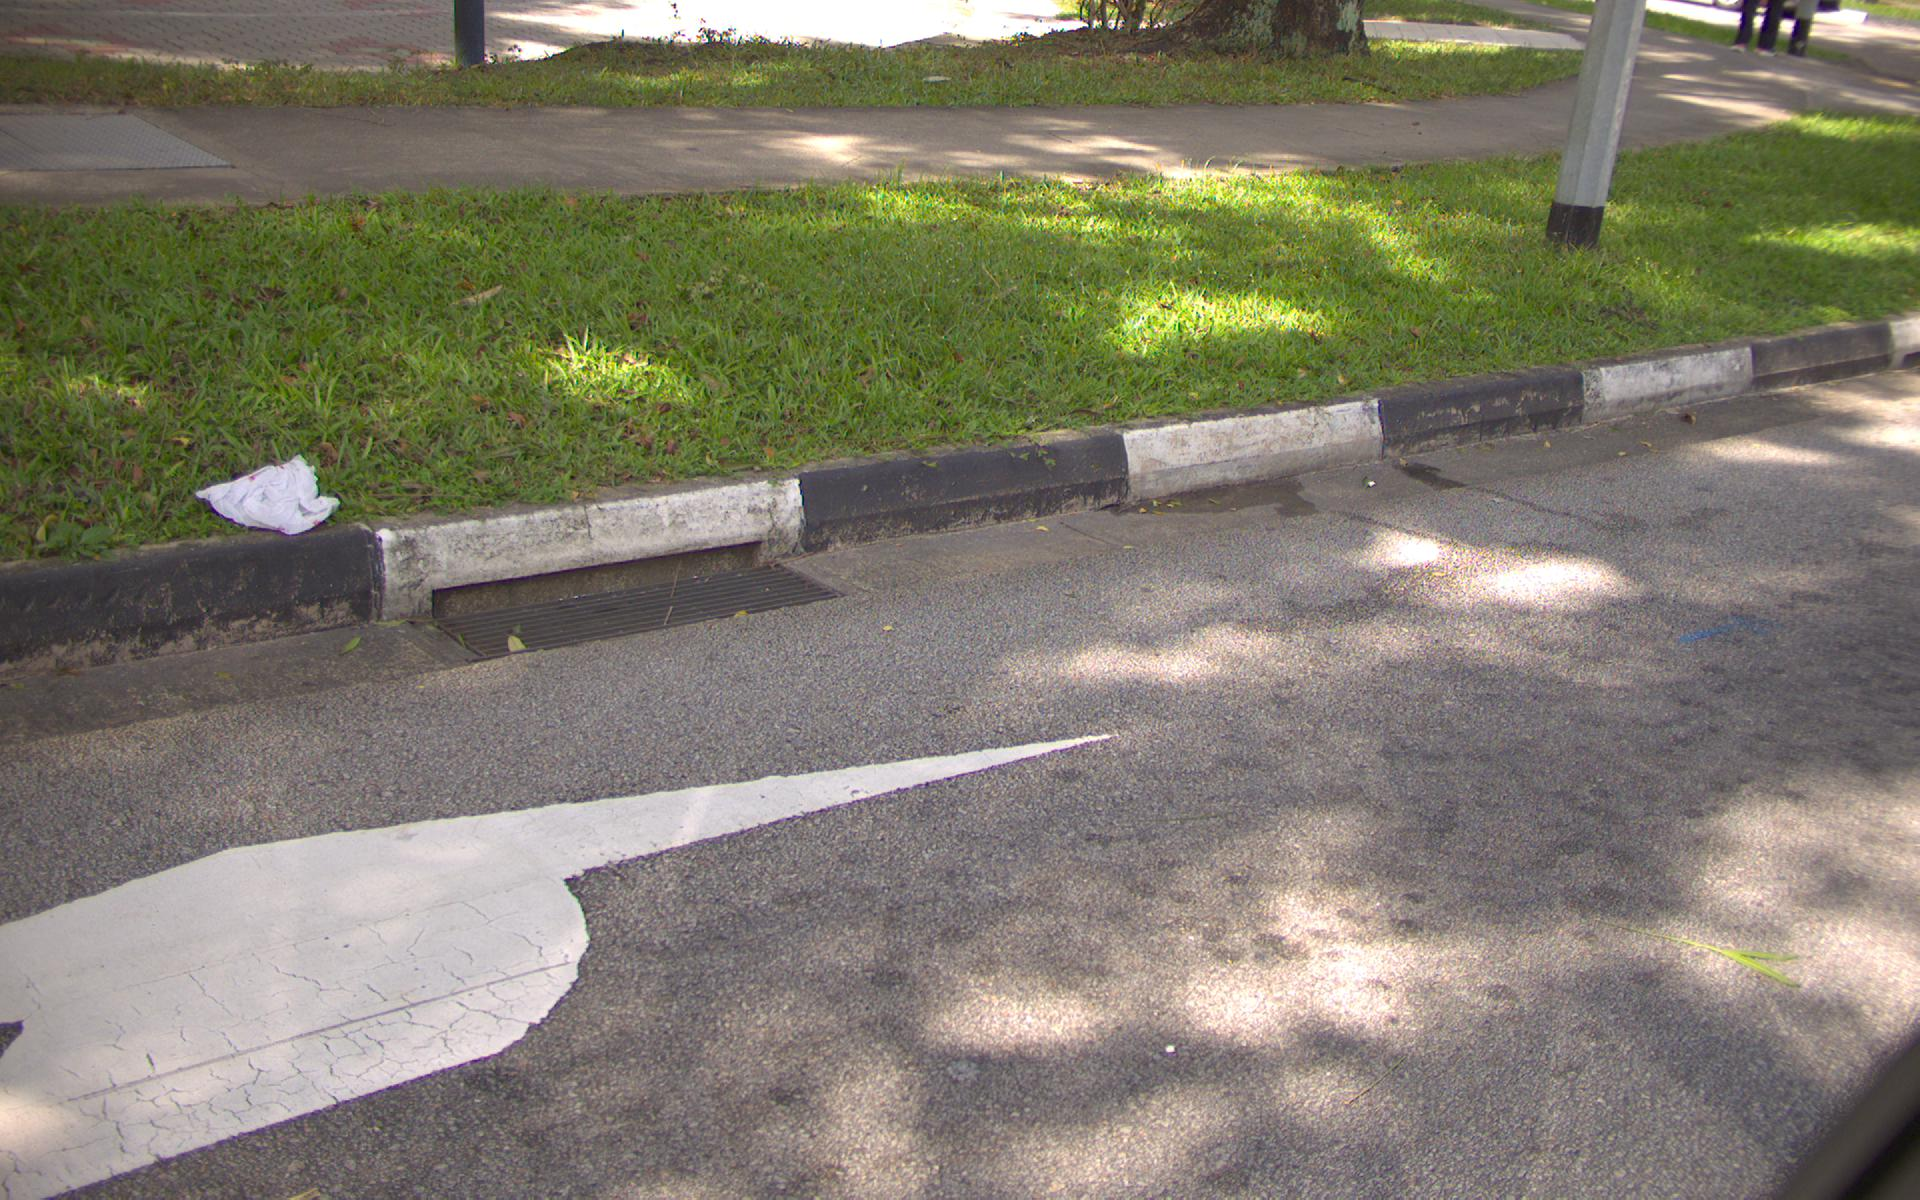curb_dic_low: (402, 512, 865, 659)
pathway_low: (4, 100, 1346, 171)
road_turf_low: (17, 210, 1297, 413)
